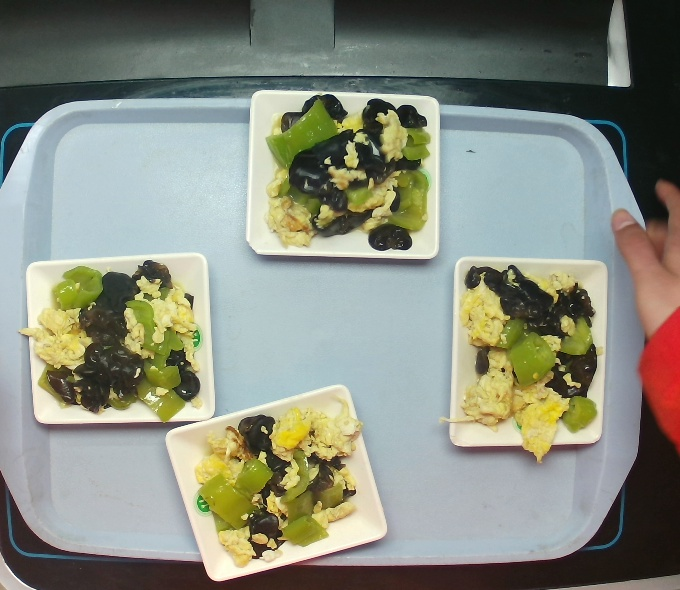wcq-MuErDanHuang: (254, 91, 439, 253), (35, 257, 205, 424), (459, 256, 596, 461), (205, 407, 359, 559)
